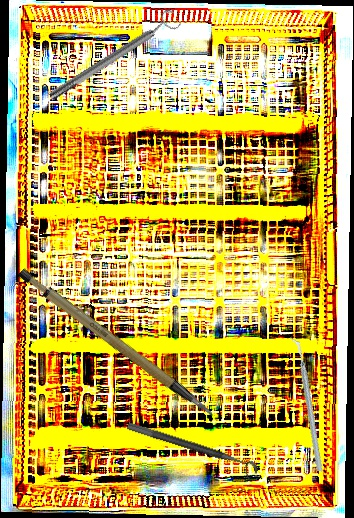Chopper: (260, 336, 353, 473)
Fixation Ring: (44, 7, 183, 106), (123, 421, 260, 483)
Scalpel Handle: (14, 245, 216, 446)
